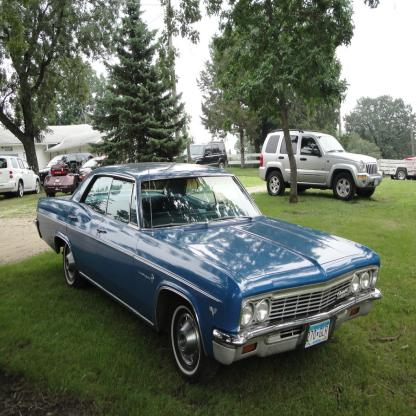Car: (1, 141, 382, 386), (257, 130, 384, 202)
